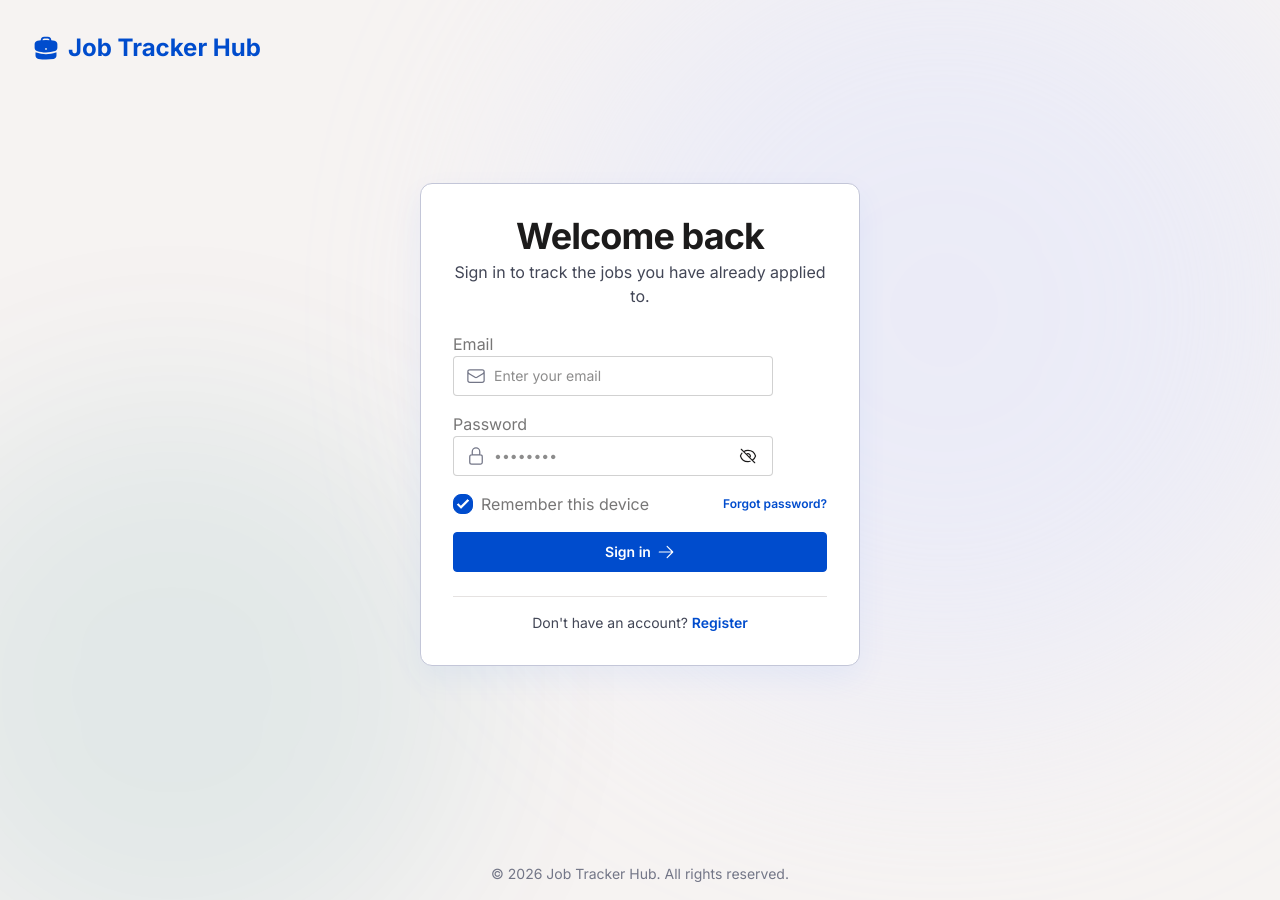
Scenario: LoginForm › shows an error for invalid credentials
The width and height of the screenshot is (1280, 900).
In the field labelled "Email": [627, 376] box [494,356,760,394], type "danny@example.com"
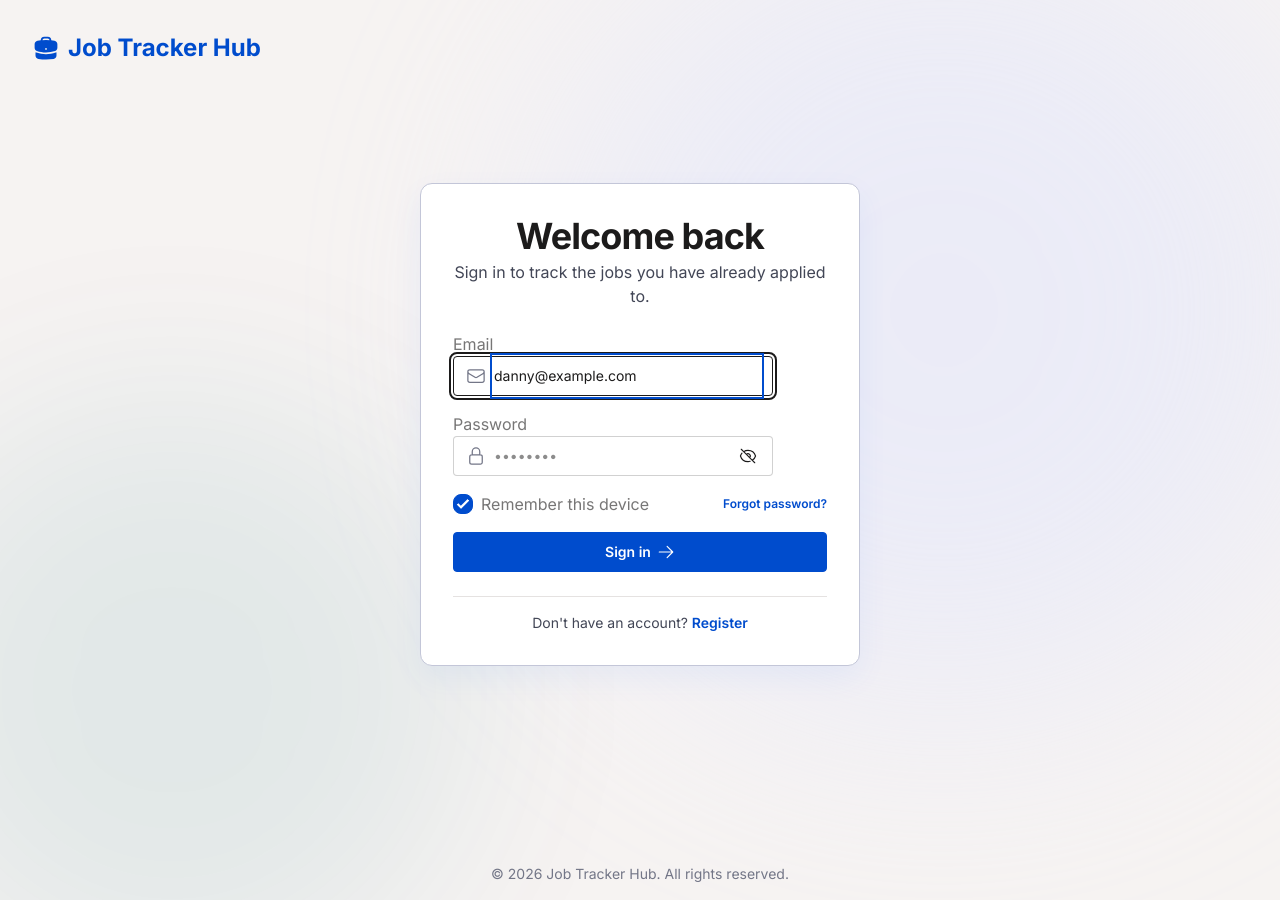
In the password field labelled "Password": [611, 456] box [494,436,728,474], type "adminadmin"
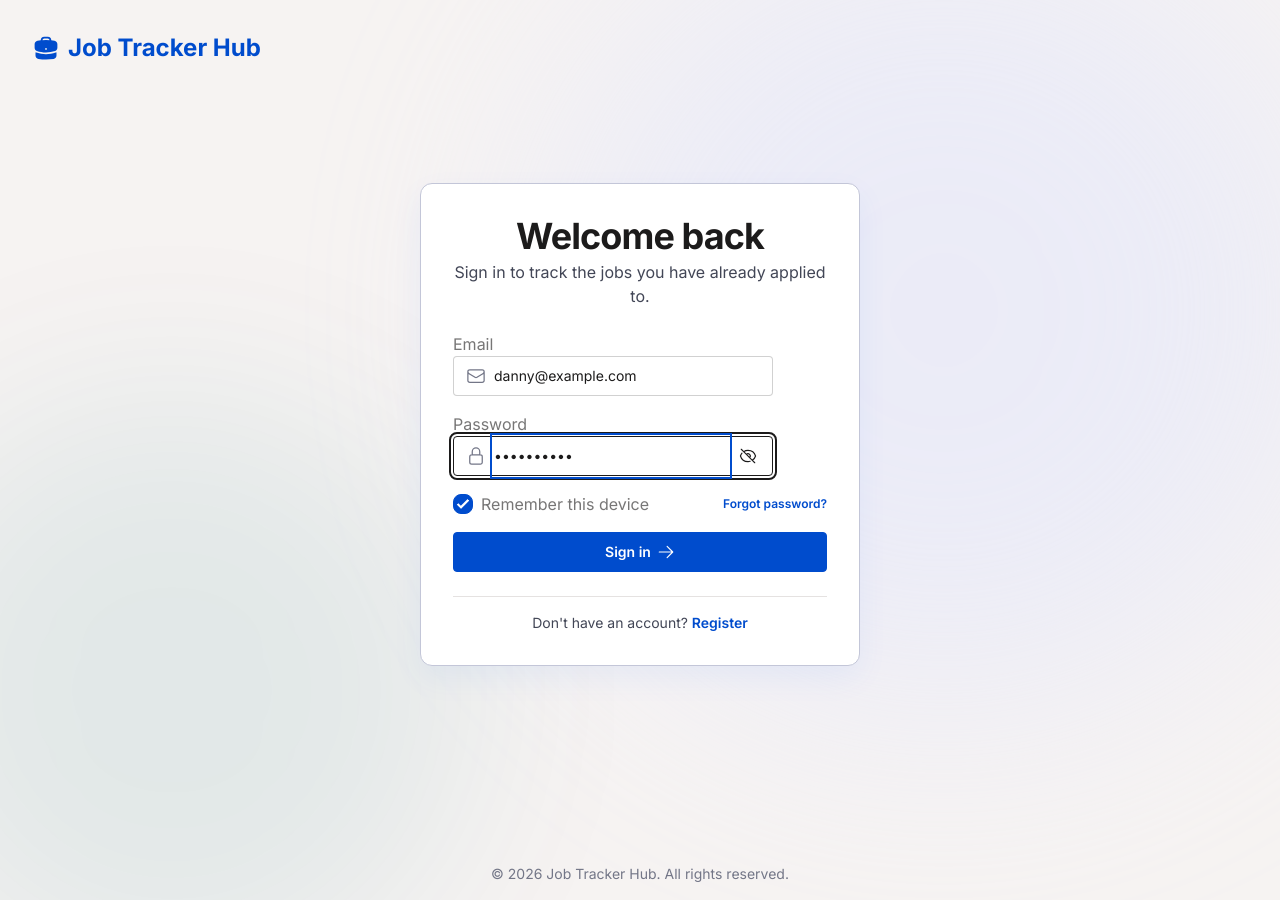
Click the button "Sign in": [640, 552] box [453,532,827,572]
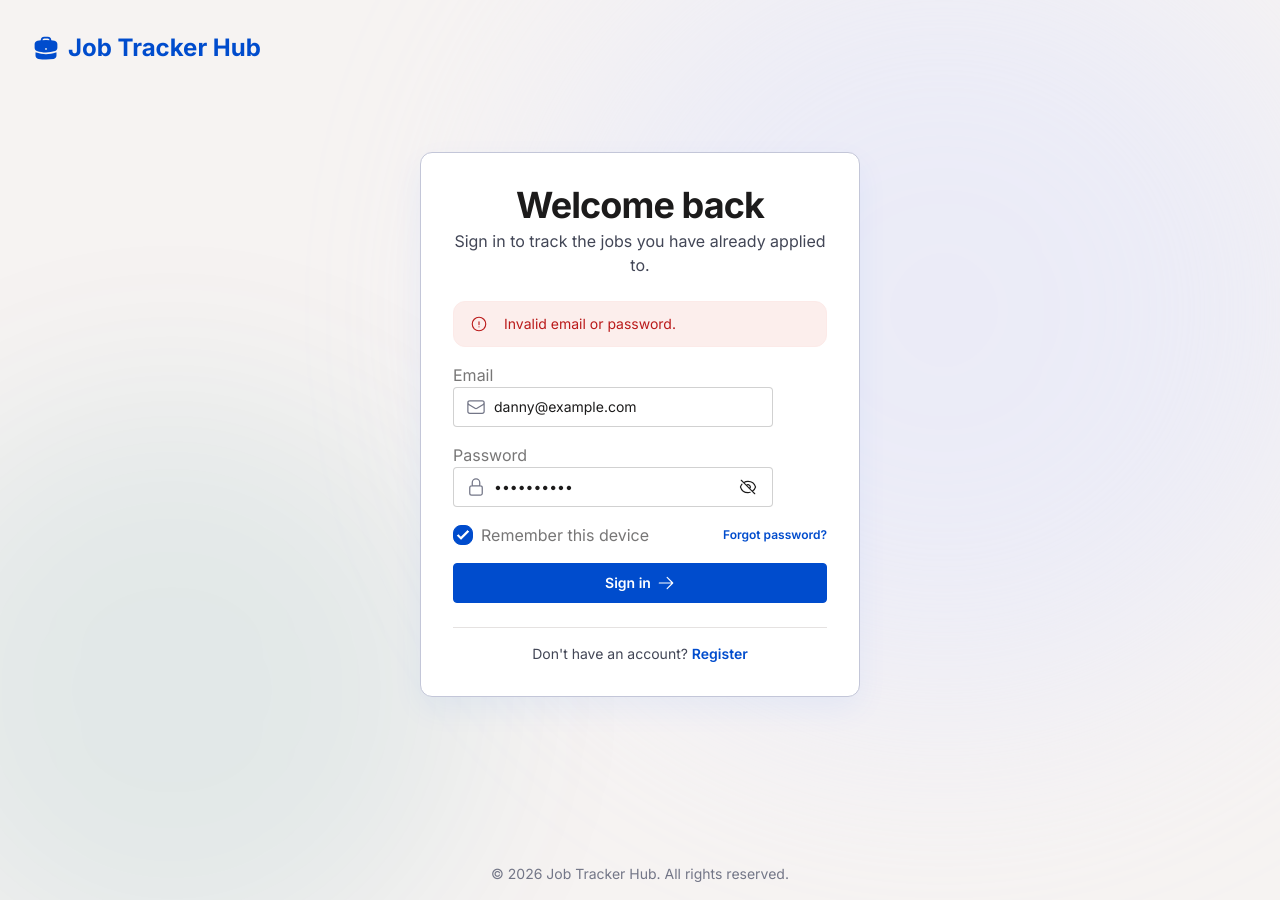
Expected: the text "Invalid email or password." is shown, [504,314,676,334]
